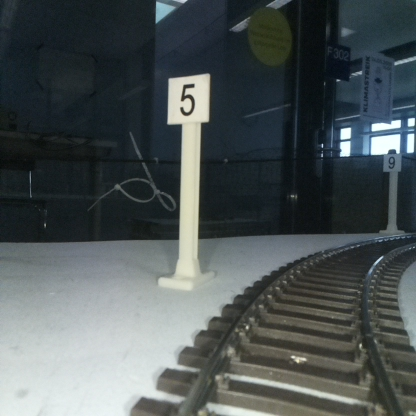white-info-5: (167, 73, 210, 288)
white-info-9: (383, 153, 401, 234)
